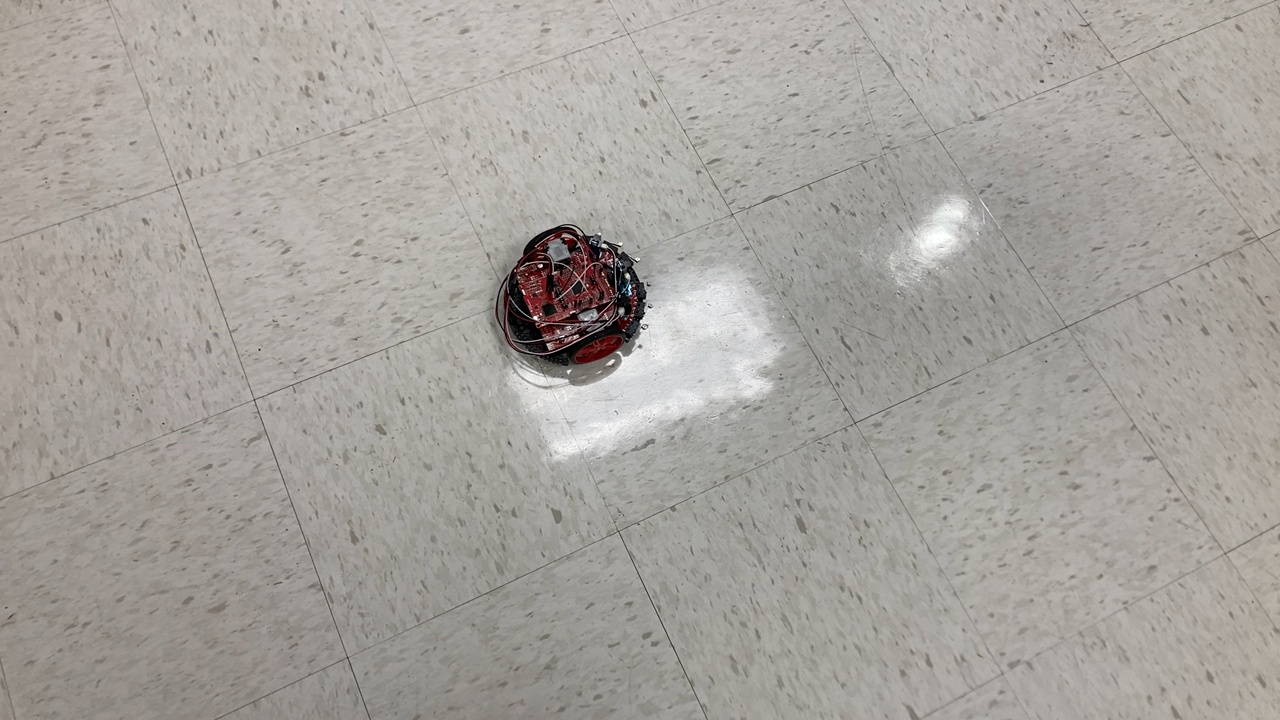robot: (489, 220, 660, 375)
